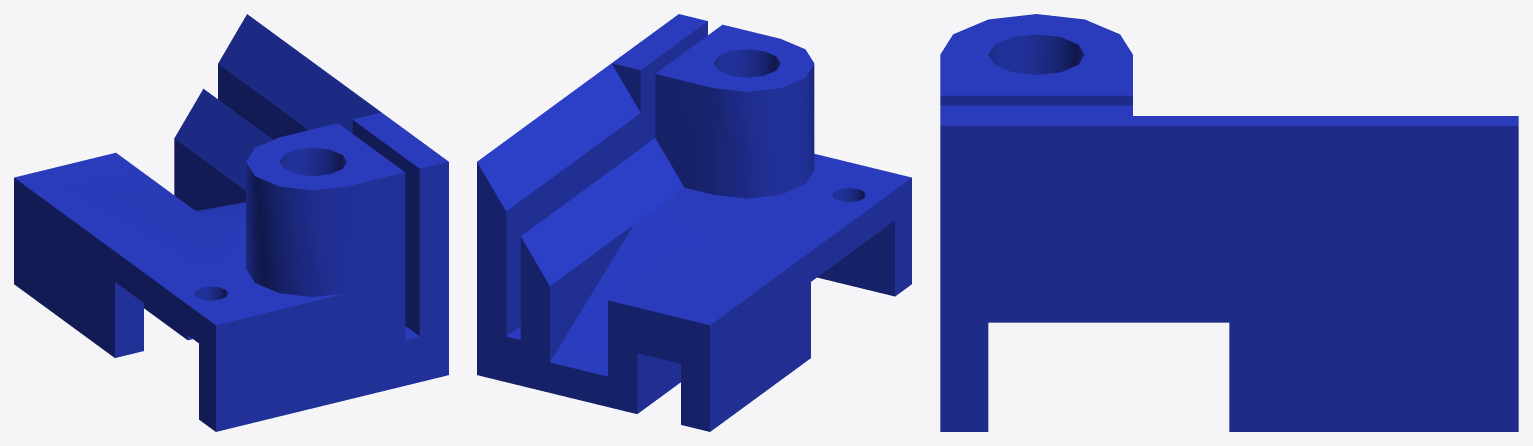
File: peca1.glb
The picture shows the model from 3 angles, left to right: view 1: azimuth 30°, elevation 25°; view 2: azimuth 150°, elevation 25°; view 3: azimuth 270°, elevation 25°; orthographic projection. The views are drawn at different scales.
Parts seen in each view (by area): view 1: 3D Solid; view 2: 3D Solid; view 3: 3D Solid.
Part boxes in pixels (x1,y1,x2,y2): 3D Solid: [14, 14, 448, 431]; 3D Solid: [477, 14, 911, 431]; 3D Solid: [940, 14, 1518, 431].
Size of the model in its own units: 0.16 by 0.14 by 0.24.
